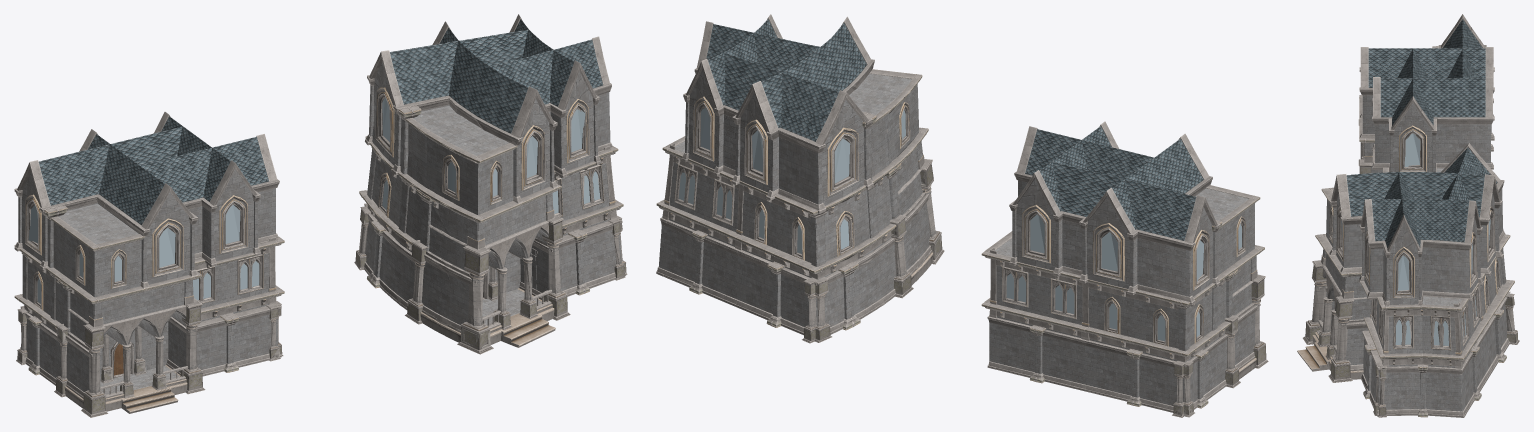
Rendered from City_Homes_D.fbx.
The picture shows the model from 3 angles, left to right: view 1: azimuth 30°, elevation 25°; view 2: azimuth 150°, elevation 25°; view 3: azimuth 270°, elevation 25°; orthographic projection. The views are drawn at different scales.
Parts seen in each view (by area): view 1: City_Home_D1, City_Home_D2, City_Home_D1.001, City_Home_D2.001, City_Home_D2.003, City_Home_D2.002, City_Home_D1.002, City_Home_D1.003; view 2: City_Home_D1, City_Home_D2, City_Home_D1.001, City_Home_D2.001, City_Home_D2.002, City_Home_D2.003, City_Home_D1.002, City_Home_D1.003; view 3: City_Home_D2, City_Home_D1, City_Home_D2.003, City_Home_D2.002, City_Home_D2.001, City_Home_D1.001, City_Home_D1.002, City_Home_D1.003.
Boxes of the visible parts, bbox=[...] form: City_Home_D1: bbox=[14, 112, 284, 417]; City_Home_D2: bbox=[354, 14, 627, 354]; City_Home_D1.001: bbox=[14, 116, 284, 416]; City_Home_D2.001: bbox=[355, 19, 623, 353]; City_Home_D2.003: bbox=[355, 22, 626, 350]; City_Home_D2.002: bbox=[354, 23, 626, 352]; City_Home_D1.002: bbox=[16, 117, 282, 416]; City_Home_D1.003: bbox=[14, 119, 282, 414]; City_Home_D1: bbox=[981, 121, 1268, 417]; City_Home_D2: bbox=[656, 14, 944, 343]; City_Home_D1.001: bbox=[981, 128, 1266, 417]; City_Home_D2.001: bbox=[656, 20, 943, 342]; City_Home_D2.002: bbox=[657, 23, 943, 342]; City_Home_D2.003: bbox=[656, 21, 942, 340]; City_Home_D1.002: bbox=[984, 128, 1267, 417]; City_Home_D1.003: bbox=[987, 130, 1266, 415]; City_Home_D2: bbox=[1297, 143, 1519, 417]; City_Home_D1: bbox=[1358, 14, 1494, 172]; City_Home_D2.003: bbox=[1305, 148, 1517, 417]; City_Home_D2.002: bbox=[1298, 147, 1519, 417]; City_Home_D2.001: bbox=[1298, 148, 1519, 417]; City_Home_D1.001: bbox=[1358, 21, 1493, 173]; City_Home_D1.002: bbox=[1358, 21, 1493, 171]; City_Home_D1.003: bbox=[1359, 53, 1494, 173].
Size of the model in its own units: 4543 by 1827 by 1883.
